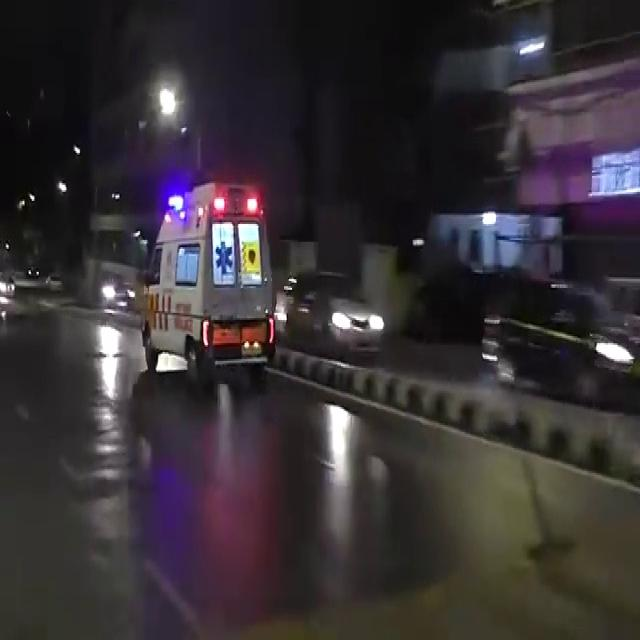ambulance: (144, 156, 278, 388)
